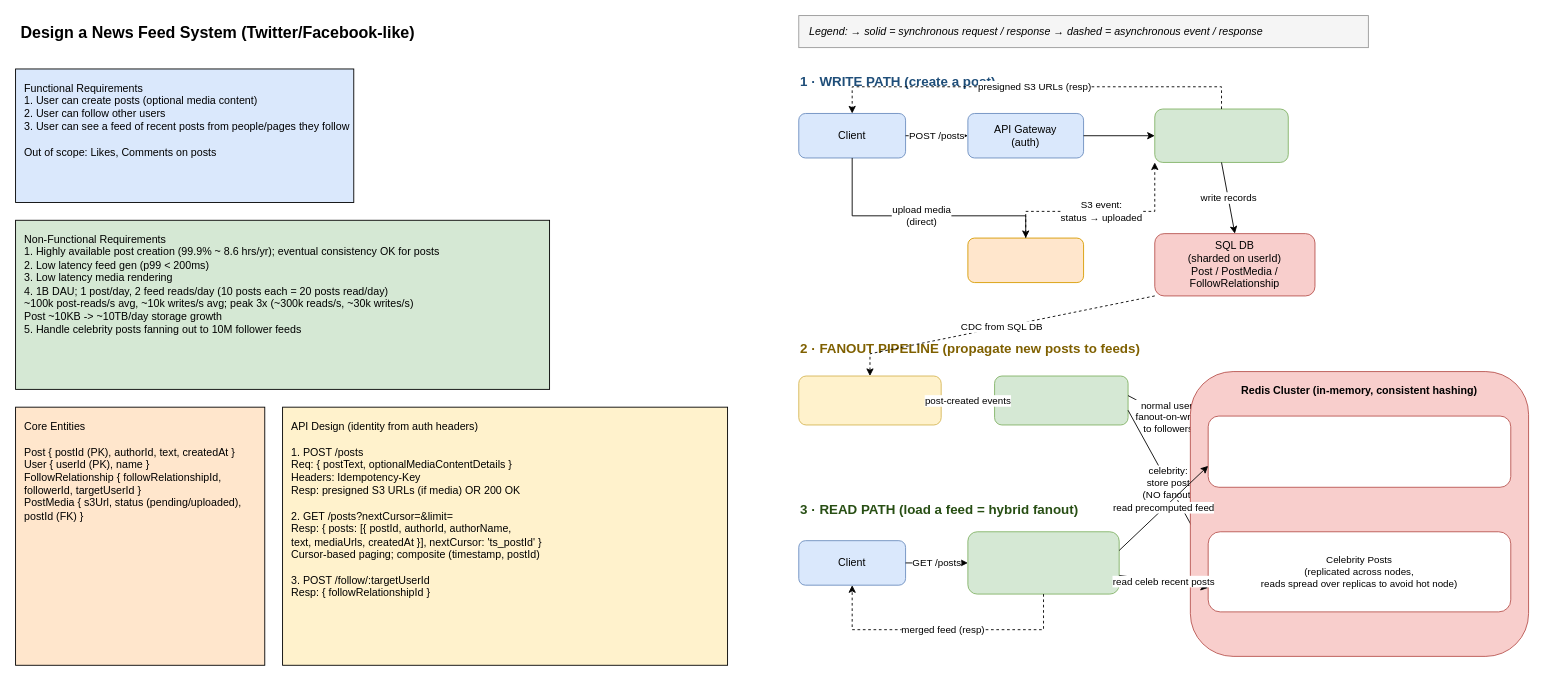
This 1544x681 diagram has some shape labels left out. Here are the shapes that lost their labels. From the top down, the centre of each, then its label:
At [1221,135]: "Social Media Service".
At [1025,260]: "S3 (media blobs)".
At [869,400]: "CDC Stream (post-created events)".
At [1061,400]: "Cache Update Workers".
At [1359,451]: "Precomputed Feeds (per user, ~50 post IDs) ~50 KB/user → ~50 TB total".
At [1043,562]: "Feed Service (merge-sort by createdAt)".
